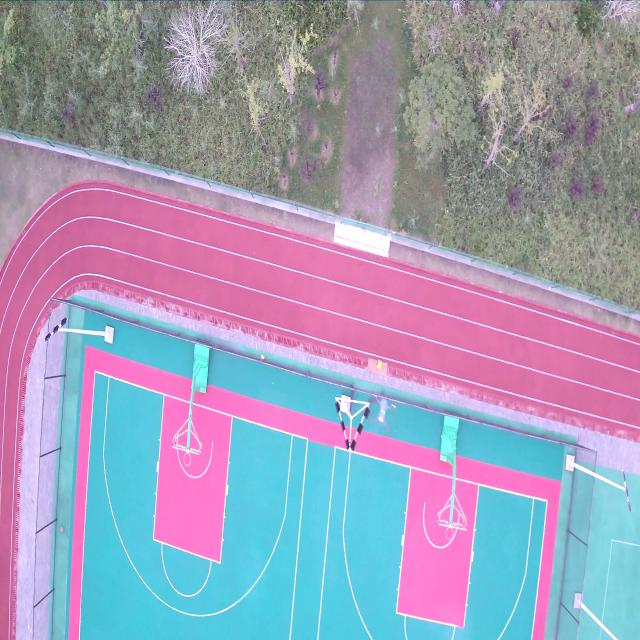UAV: (370, 392, 396, 437)
